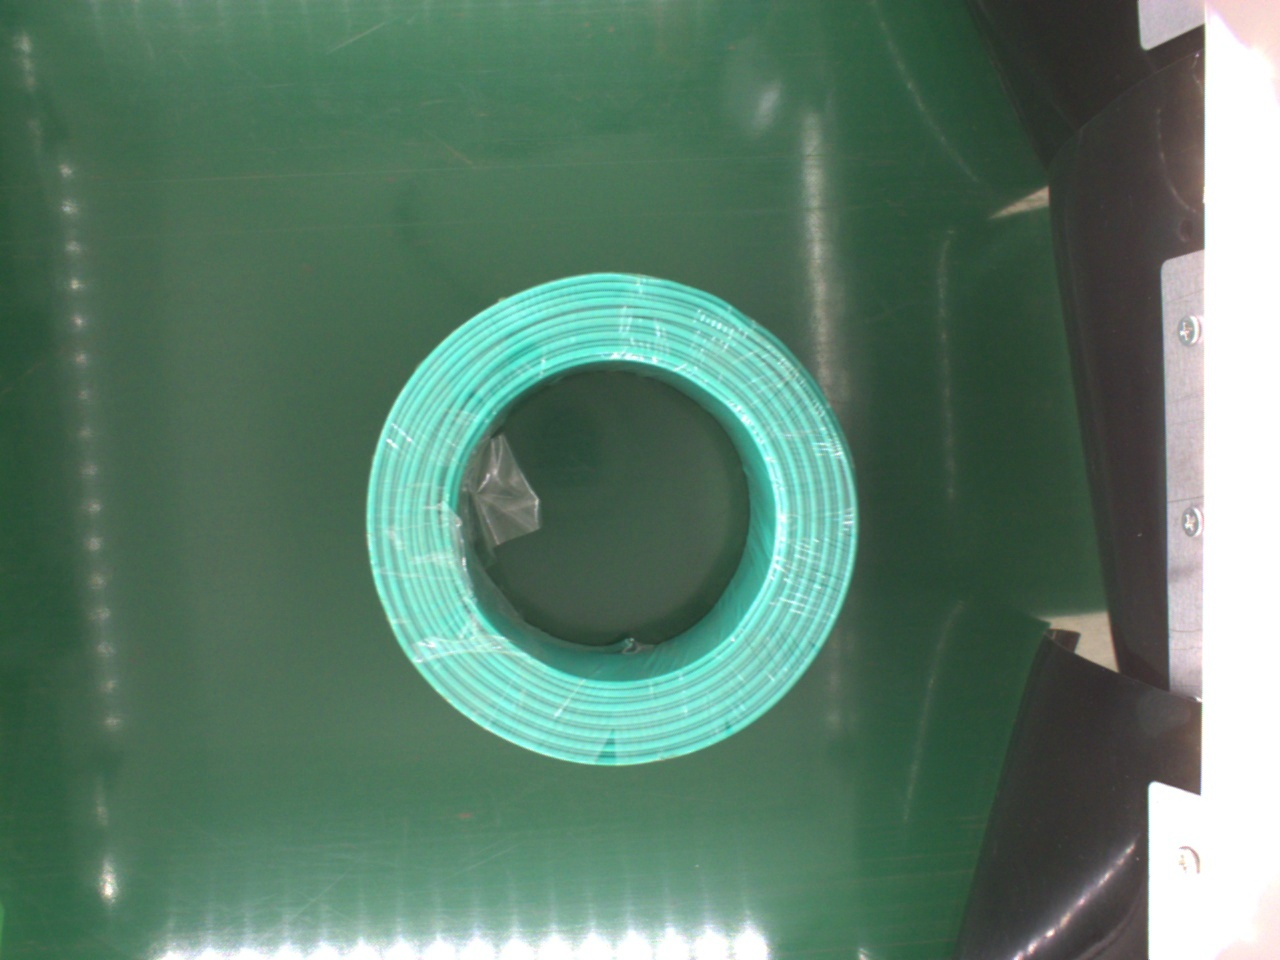green: (361, 271, 858, 771)
